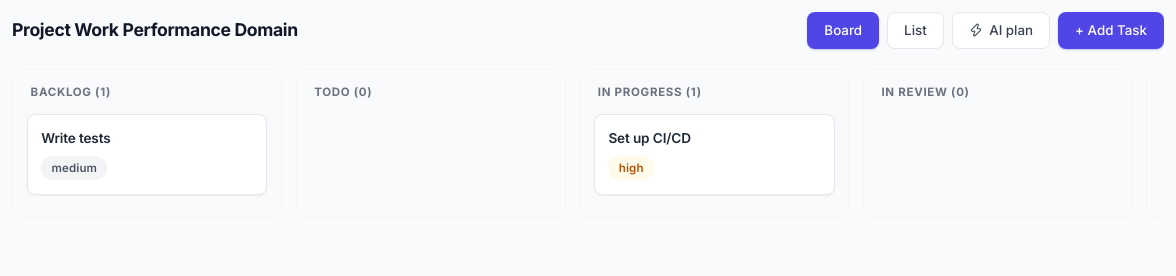
Test: TasksPage › switches to list view
What coordinates should you click on to do the following:
click the button "List"
I would click on:
 (915, 30)
Its box is x1=887 y1=12 x2=944 y2=49.
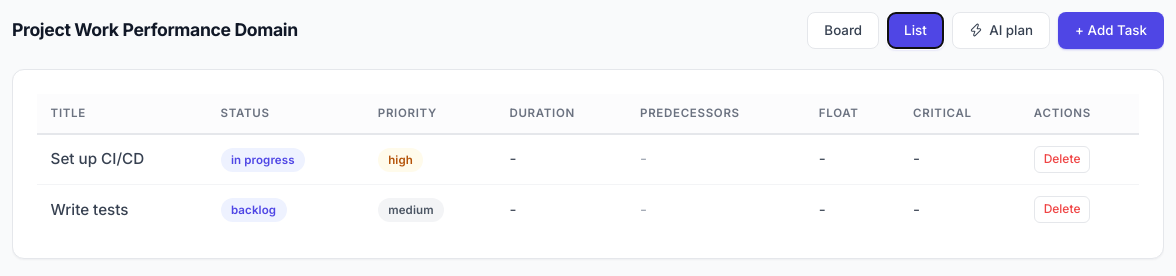
Now the column heading "Title" is shown, box x1=37 y1=94 x2=207 y2=135
Now the column heading "Status" is shown, box x1=207 y1=94 x2=364 y2=135
Now the column heading "Priority" is shown, box x1=364 y1=94 x2=496 y2=135
